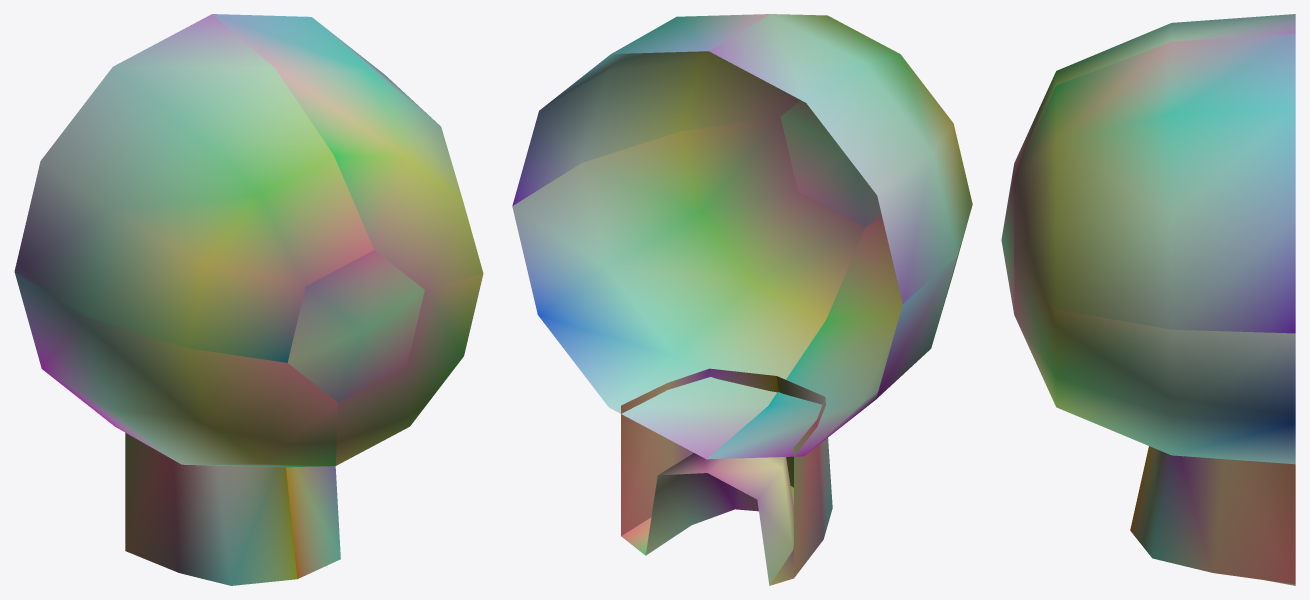
Rendered from Igloo.glb.
3 views of the same model, side by side, from view 1: azimuth 30°, elevation 25°; view 2: azimuth 150°, elevation 25°; view 3: azimuth 270°, elevation 25° (orthographic).
Visible parts, largest first — view 1: MeshNode_0; view 2: MeshNode_0; view 3: MeshNode_0.
Part boxes in pixels (x1,y1,x2,y2): MeshNode_0: (14,14,483,585); MeshNode_0: (512,14,972,585); MeshNode_0: (1001,14,1295,585).
Size of the model in its own units: 6.92 by 8.8 by 4.5.
